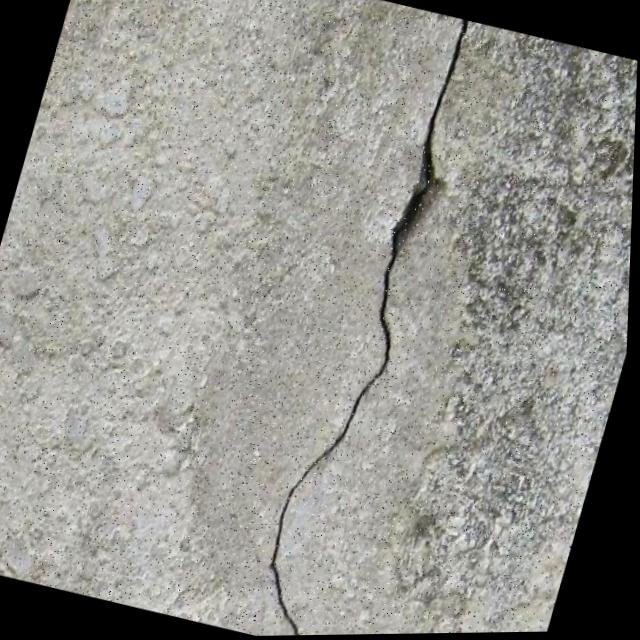Crack: (239, 7, 502, 637)
